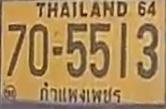0: (28, 24, 48, 76)
1: (120, 22, 126, 76)
3: (136, 21, 158, 78)
5: (89, 22, 110, 77), (66, 22, 87, 76)
7: (7, 23, 26, 75)
KPT: (34, 80, 126, 106)
